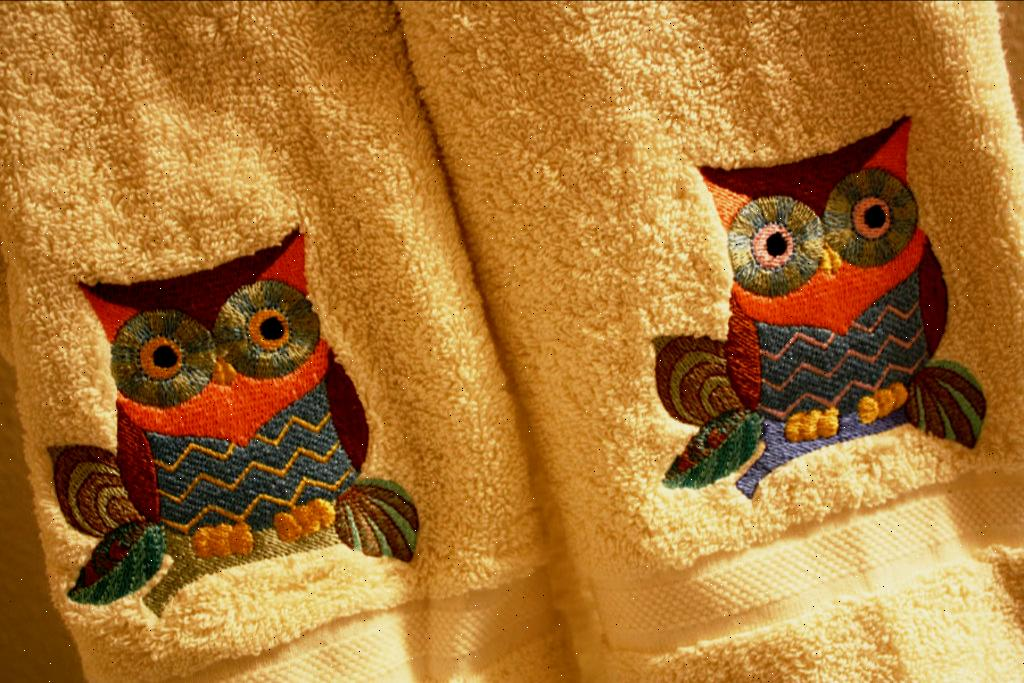Owl: (44, 212, 424, 612), (657, 110, 991, 496)
